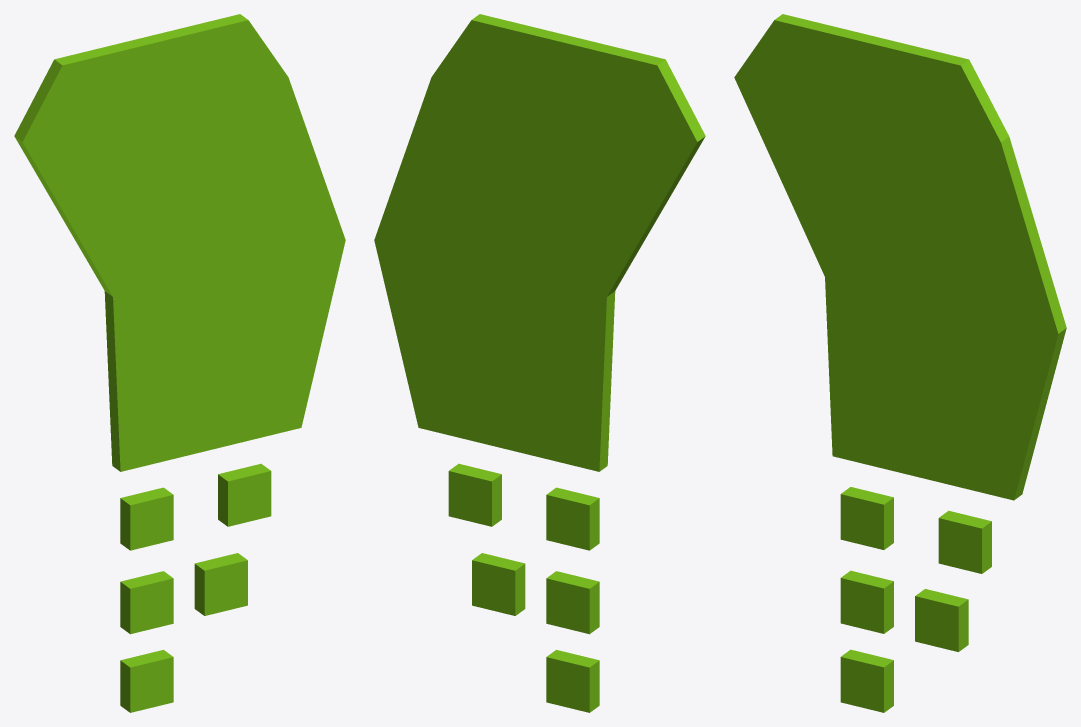
The model's file is JalapenoInsideCollider.obj.
3 views of the same model, side by side, from view 1: azimuth 30°, elevation 25°; view 2: azimuth 150°, elevation 25°; view 3: azimuth 330°, elevation 25° (orthographic).
Parts seen in each view (by area): view 1: carrotBody.005, carrotBody.004, carrotBody.003, Cube, Cube.002, Cube.003, Cube.004, Cube.001; view 2: carrotBody.005, carrotBody.004, carrotBody.003, Cube, Cube.002, Cube.003, Cube.004, Cube.001; view 3: carrotBody.005, carrotBody.004, carrotBody.003, Cube, Cube.002, Cube.001, Cube.004, Cube.003.
Part boxes in pixels (x1,y1,x2,y2): carrotBody.005: [14, 77, 345, 296]; carrotBody.004: [104, 240, 345, 471]; carrotBody.003: [14, 14, 287, 141]; Cube: [120, 487, 173, 550]; Cube.002: [120, 571, 173, 634]; Cube.003: [194, 553, 247, 615]; Cube.004: [120, 650, 173, 712]; Cube.001: [218, 463, 271, 526]; carrotBody.005: [374, 77, 705, 296]; carrotBody.004: [374, 240, 615, 471]; carrotBody.003: [432, 14, 705, 141]; Cube: [546, 487, 599, 550]; Cube.002: [546, 571, 599, 634]; Cube.003: [472, 553, 525, 615]; Cube.004: [546, 650, 599, 712]; Cube.001: [448, 463, 501, 526]; carrotBody.005: [734, 77, 1066, 333]; carrotBody.004: [825, 277, 1066, 500]; carrotBody.003: [734, 14, 1009, 142]; Cube: [840, 487, 893, 549]; Cube.002: [840, 570, 893, 633]; Cube.001: [938, 510, 991, 573]; Cube.004: [840, 649, 893, 712]; Cube.003: [915, 589, 968, 651].
Bounding box in the file's own units: 0.0538 × 0.1055 × 0.00288.
